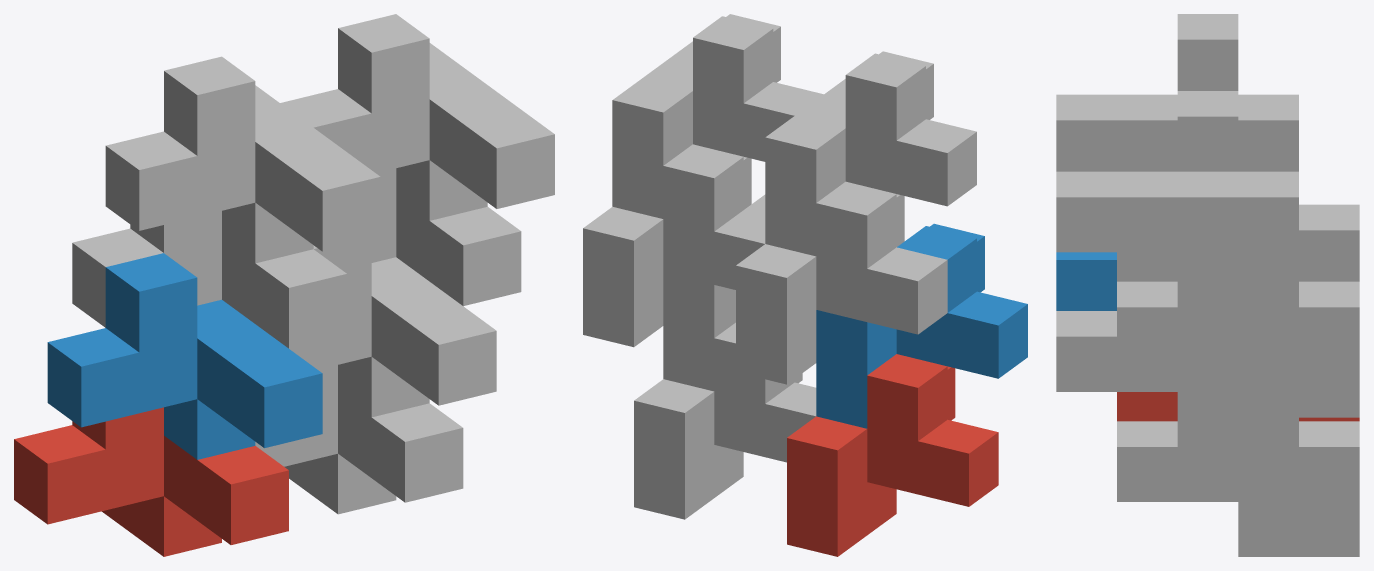
File: tiling.obj
3 renders of one model, left to right at view 1: azimuth 30°, elevation 25°; view 2: azimuth 150°, elevation 25°; view 3: azimuth 270°, elevation 25°, orthographic. The views are drawn at different scales.
Visible parts, largest first — view 1: copy_1_domain_4, copy_1_domain_2, copy_1_domain_8, copy_1_domain_1, copy_1_domain_6, copy_1_domain_3, copy_1_domain_5, copy_1_domain_7; view 2: copy_1_domain_1, copy_1_domain_3, copy_1_domain_4, copy_1_domain_8, copy_1_domain_7, copy_1_domain_5, copy_1_domain_2, copy_1_domain_6; view 3: copy_1_domain_8, copy_1_domain_7, copy_1_domain_5, copy_1_domain_4, copy_1_domain_6, copy_1_domain_3, copy_1_domain_2, copy_1_domain_1.
Part boxes in pixels (x1,y1,x2,y2): copy_1_domain_4: [105, 56, 380, 263]; copy_1_domain_2: [47, 253, 322, 459]; copy_1_domain_8: [280, 14, 554, 220]; copy_1_domain_1: [14, 407, 288, 556]; copy_1_domain_6: [289, 240, 496, 417]; copy_1_domain_3: [72, 211, 346, 348]; copy_1_domain_5: [255, 365, 463, 514]; copy_1_domain_7: [371, 168, 521, 306]; copy_1_domain_1: [787, 354, 998, 556]; copy_1_domain_3: [736, 181, 947, 384]; copy_1_domain_4: [765, 51, 976, 256]; copy_1_domain_8: [612, 14, 823, 218]; copy_1_domain_7: [583, 144, 765, 347]; copy_1_domain_5: [634, 322, 816, 519]; copy_1_domain_2: [816, 223, 1027, 428]; copy_1_domain_6: [663, 194, 765, 391]; copy_1_domain_8: [1056, 91, 1298, 307]; copy_1_domain_7: [1117, 281, 1359, 417]; copy_1_domain_5: [1117, 421, 1359, 556]; copy_1_domain_4: [1056, 14, 1298, 171]; copy_1_domain_6: [1056, 311, 1298, 446]; copy_1_domain_3: [1117, 204, 1359, 281]; copy_1_domain_2: [1056, 252, 1116, 310]; copy_1_domain_1: [1117, 392, 1359, 421].
Bounding box in the file's own units: 7 × 8 × 5.
